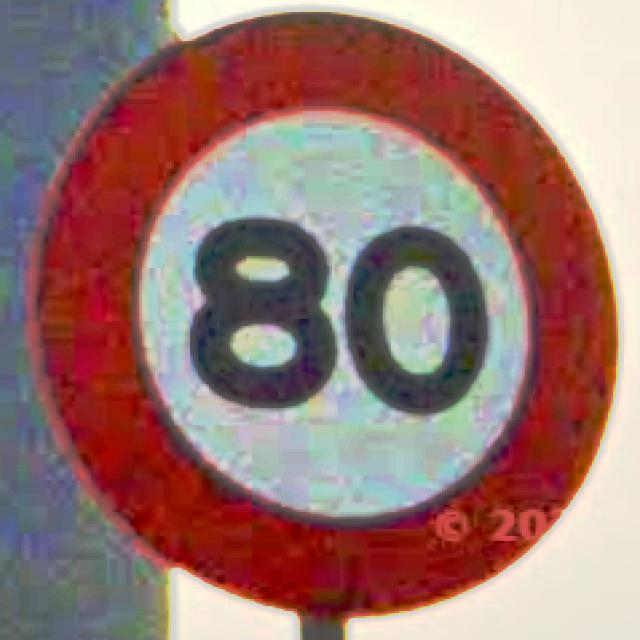max80: (29, 2, 622, 618)
